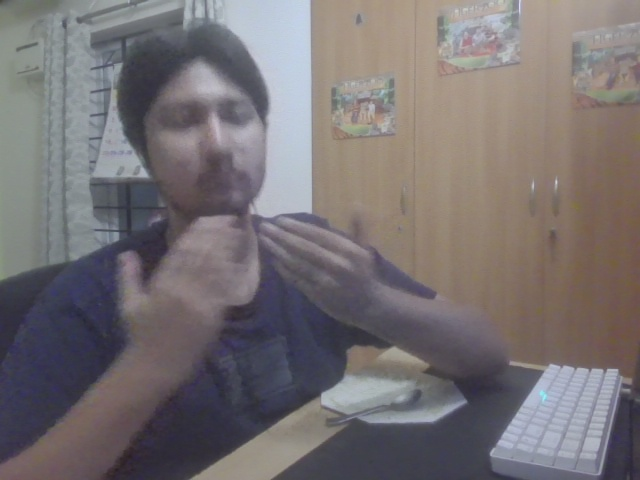thankyou: (113, 210, 382, 362)
